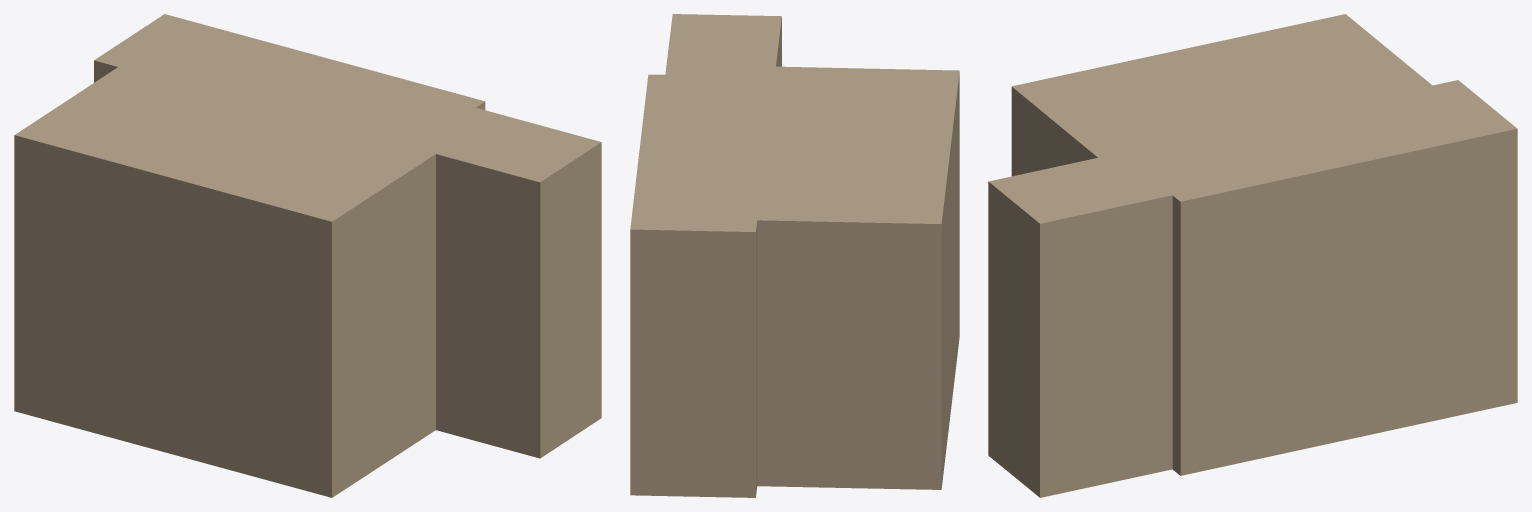
Rendered from bld_106456127.dae.
3 renders of one model, left to right at view 1: azimuth 30°, elevation 25°; view 2: azimuth 150°, elevation 25°; view 3: azimuth 270°, elevation 25°, orthographic. The views are drawn at different scales.
Visible parts, largest first — view 1: bld_106456127; view 2: bld_106456127; view 3: bld_106456127.
Part boxes in pixels (x1,y1,x2,y2): bld_106456127: (14, 14, 601, 497); bld_106456127: (630, 14, 959, 497); bld_106456127: (988, 14, 1517, 497).
Size of the model in its own units: 13.13 by 13.99 by 8.
